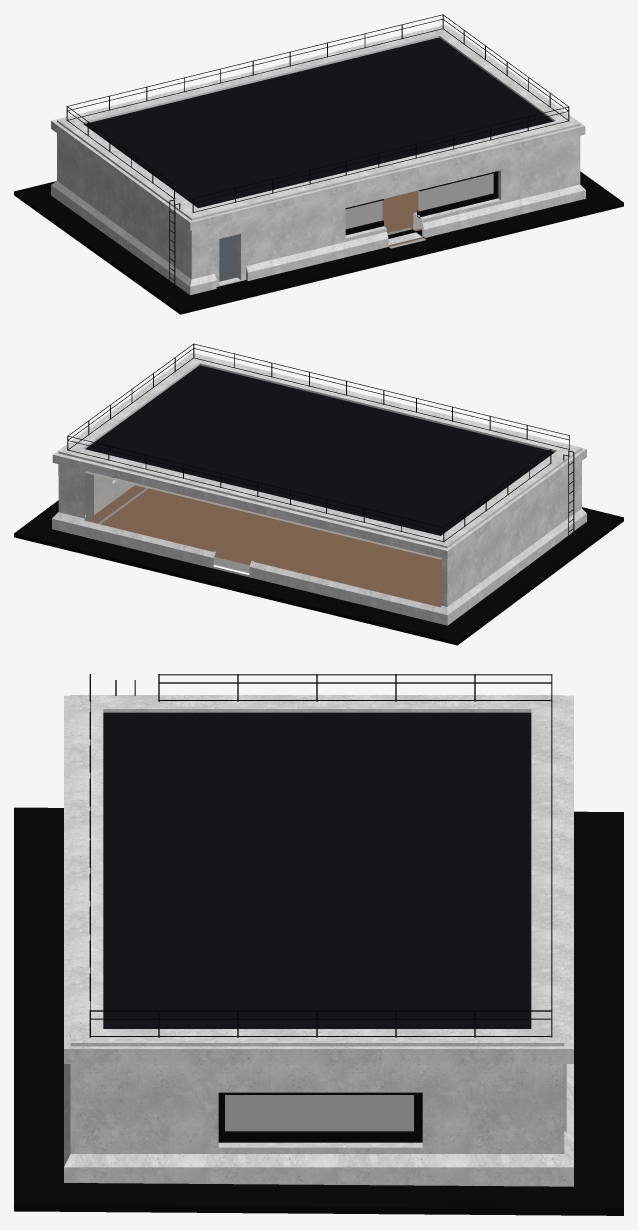
Rendered from control-post.zfix-v1.lod1.glb.
The picture shows the model from 3 angles, top to bottom: view 1: azimuth 30°, elevation 25°; view 2: azimuth 150°, elevation 25°; view 3: azimuth 270°, elevation 25°; orthographic projection. The views are drawn at different scales.
Visible parts, largest first — view 1: Inner_Floor_Floor_1_0, Inner_Floor_Outer_Walls_0, Railing_Railing_0, window_1_window_0; view 2: Inner_Floor_Floor_1_0, Inner_Floor_Outer_Walls_0, Railing_Railing_0, Walls_Inner_walls_0; view 3: Inner_Floor_Floor_1_0, Inner_Floor_Outer_Walls_0, Railing_Railing_0, window_1_window_0.
Boxes of the visible parts, x1,y1,x2,y2 form: Inner_Floor_Floor_1_0: (14, 37, 623, 314); Inner_Floor_Outer_Walls_0: (51, 24, 585, 295); Railing_Railing_0: (66, 14, 569, 285); window_1_window_0: (345, 171, 498, 235); Inner_Floor_Floor_1_0: (14, 365, 623, 645); Inner_Floor_Outer_Walls_0: (52, 353, 586, 625); Railing_Railing_0: (67, 343, 574, 542); Walls_Inner_walls_0: (85, 470, 136, 522); Inner_Floor_Floor_1_0: (14, 712, 623, 1215); Inner_Floor_Outer_Walls_0: (64, 695, 573, 1186); Railing_Railing_0: (89, 674, 552, 1037); window_1_window_0: (218, 1092, 422, 1142).
Size of the model in its own units: 19.9 by 4.09 by 12.93.
6 materials, 3 textured.
